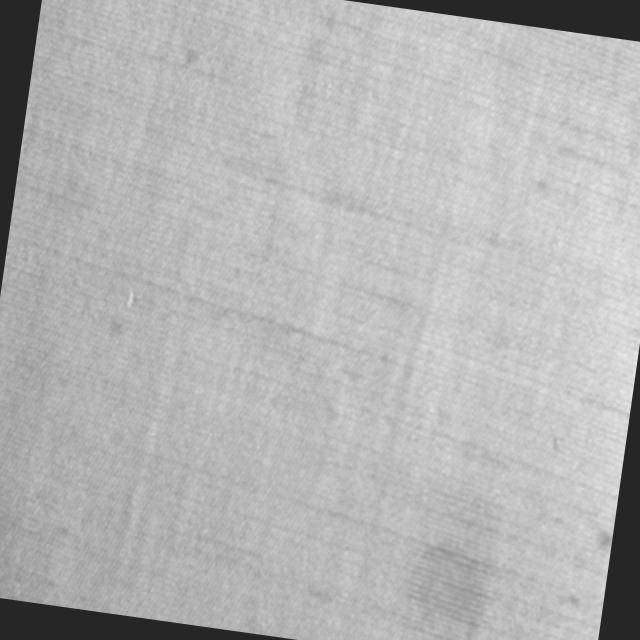oil spot: (401, 536, 494, 640)
